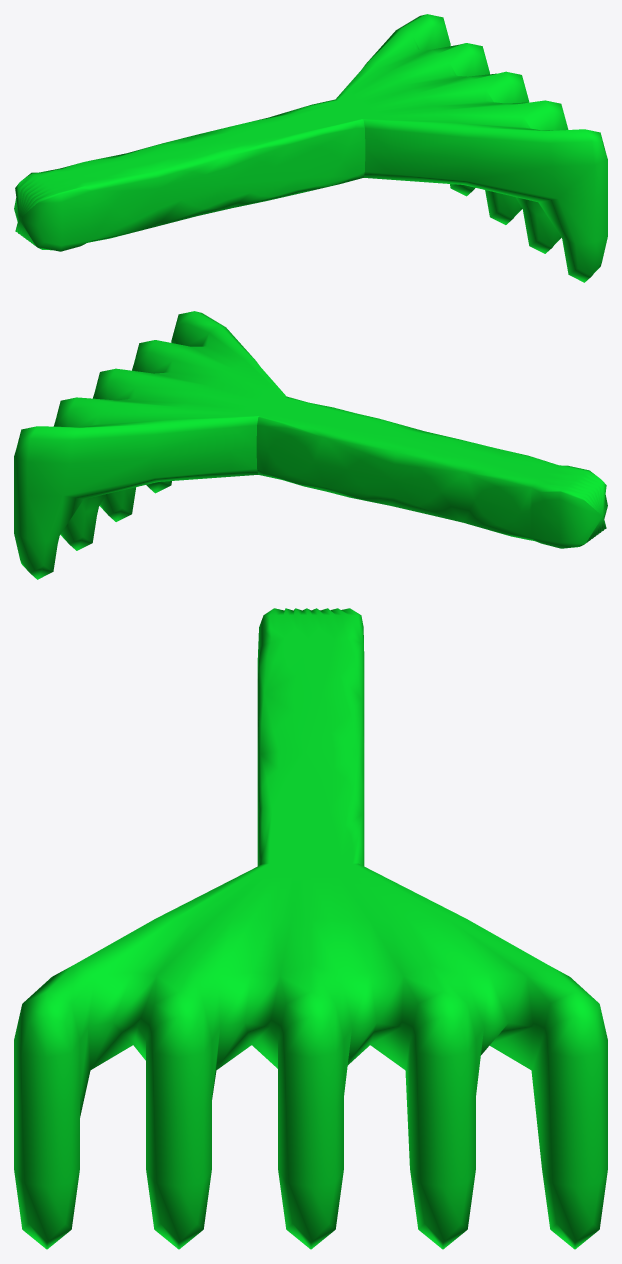
The model's file is Rake.fbx.
The picture shows the model from 3 angles, top to bottom: view 1: azimuth 30°, elevation 25°; view 2: azimuth 150°, elevation 25°; view 3: azimuth 270°, elevation 25°; orthographic projection. The views are drawn at different scales.
Parts seen in each view (by area): view 1: polySurface3; view 2: polySurface3; view 3: polySurface3.
Boxes of the visible parts, bbox=[...] form: polySurface3: bbox=[14, 14, 607, 282]; polySurface3: bbox=[14, 311, 607, 579]; polySurface3: bbox=[14, 608, 607, 1249].
Bounding box in the file's own units: 18.45 × 5.33 × 11.12.
